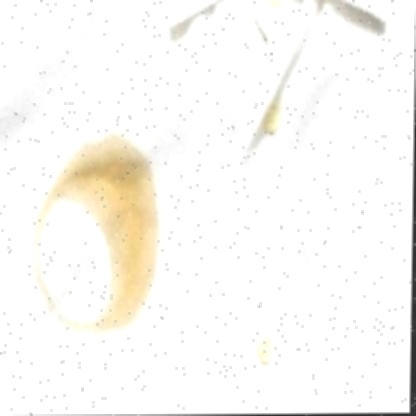coffee: (96, 216, 161, 320), (68, 146, 155, 213)
